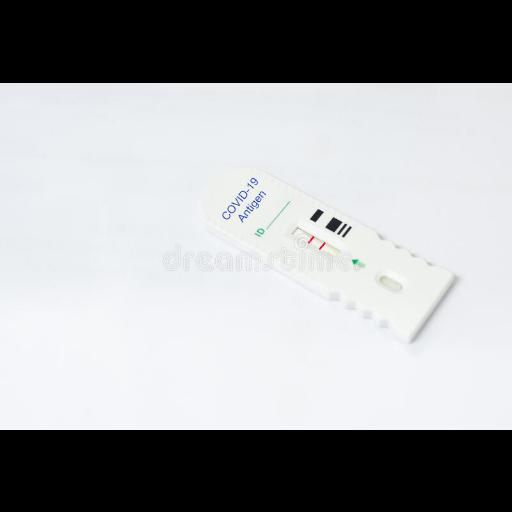Pos: (196, 156, 456, 337)
